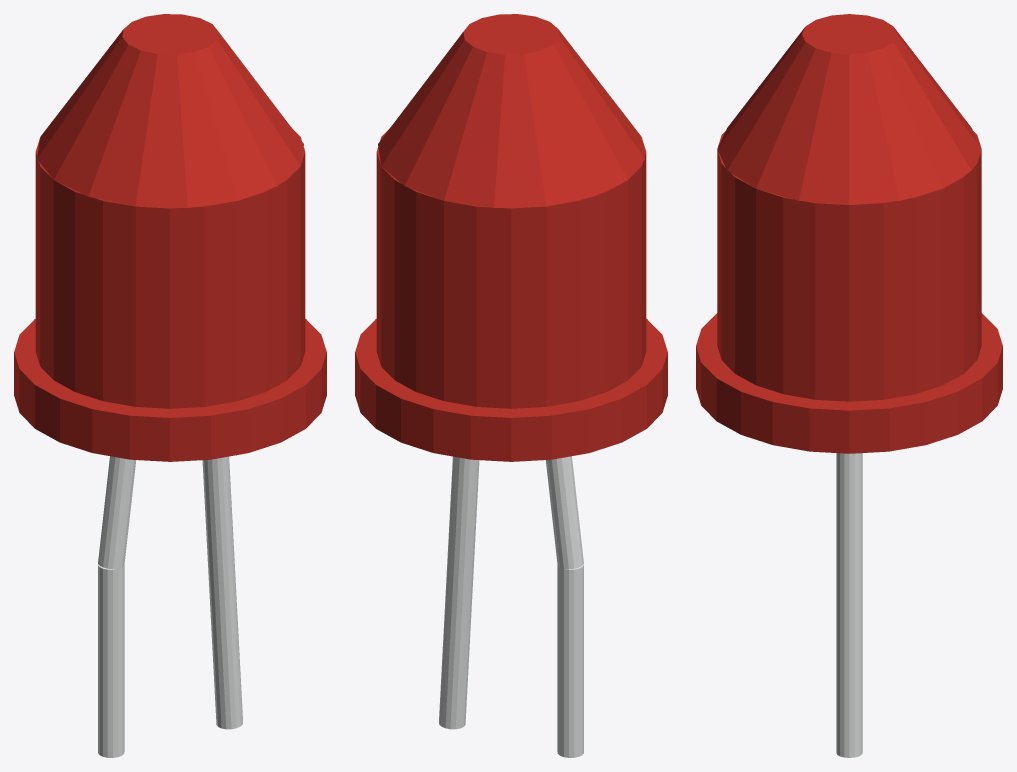
File: led.glb
The picture shows the model from 3 angles, left to right: view 1: azimuth 30°, elevation 25°; view 2: azimuth 150°, elevation 25°; view 3: azimuth 270°, elevation 25°; orthographic projection.
Visible parts, largest first — view 1: led:LED1, static; view 2: led:LED1, static; view 3: led:LED1, static.
Boxes of the visible parts, left/top/right/bottom form: led:LED1: left=14, top=14, right=326, bottom=461; static: left=98, top=456, right=242, bottom=757; led:LED1: left=355, top=14, right=667, bottom=461; static: left=439, top=456, right=583, bottom=757; led:LED1: left=696, top=14, right=1002, bottom=453; static: left=836, top=453, right=862, bottom=757.
Bounding box in the file's own units: 0.0058 × 0.0144 × 0.0058.
